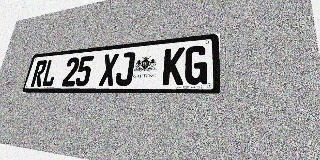2: (61, 57, 80, 86)
5: (74, 55, 94, 86)
G: (184, 45, 208, 85)
J: (114, 52, 136, 86)
K: (162, 47, 185, 85)
L: (41, 59, 59, 87)
R: (30, 60, 48, 87)
X: (98, 53, 119, 86)
